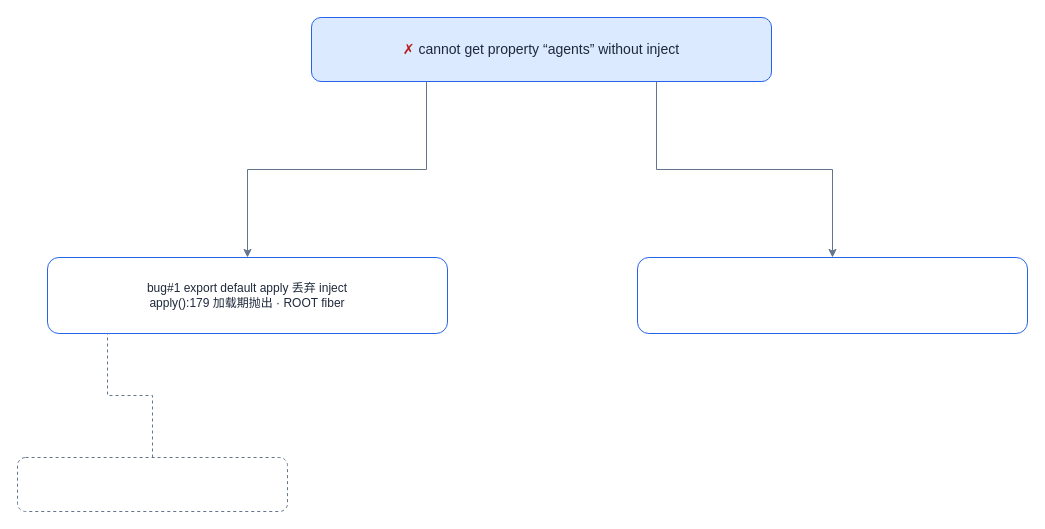
The diagram is 1045 pixels wide and 529 high, and some of its shapes have lost their labels. The shapes that lost their labels are listed below. From the top down, each one's box as (x1, y1, x2, y2) in pixels, then its label:
(636, 256, 1028, 334): bug#2 可选服务跨 shadow 边界查找失败 (session/load)
(16, 456, 288, 512): 178 测试全绿 · 100% 行覆盖
